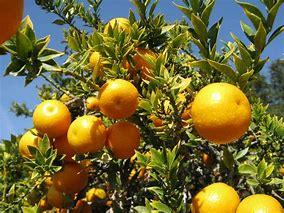orange: (184, 80, 251, 139), (53, 163, 104, 208), (97, 81, 144, 121), (30, 94, 70, 139), (184, 179, 232, 213), (57, 114, 103, 149), (112, 125, 154, 161), (242, 190, 284, 213)
